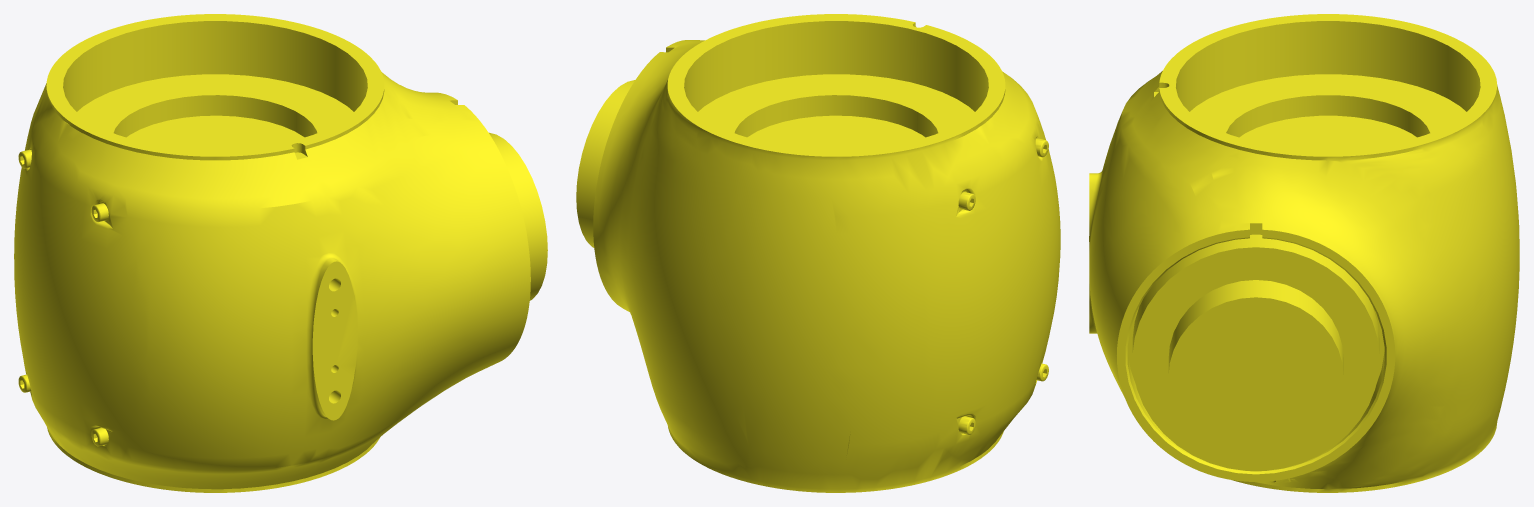
The picture shows the model from 3 angles, left to right: view 1: azimuth 30°, elevation 25°; view 2: azimuth 150°, elevation 25°; view 3: azimuth 270°, elevation 25°; orthographic projection.
Visible parts, largest first — view 1: /Link3/Link3-mesh/0; view 2: /Link3/Link3-mesh/0; view 3: /Link3/Link3-mesh/0.
Part boxes in pixels (bbox=[...]): /Link3/Link3-mesh/0: bbox=[14, 14, 547, 492]; /Link3/Link3-mesh/0: bbox=[576, 14, 1060, 492]; /Link3/Link3-mesh/0: bbox=[1089, 14, 1519, 492].
Size of the model in its own units: 0.2429 by 0.18 by 0.209.
